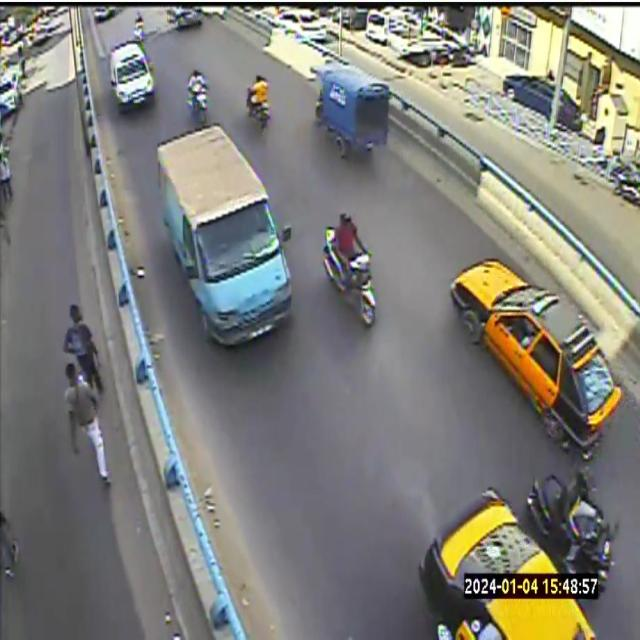car: (449, 259, 621, 458), (158, 124, 291, 345), (419, 488, 598, 639), (110, 40, 154, 109)
